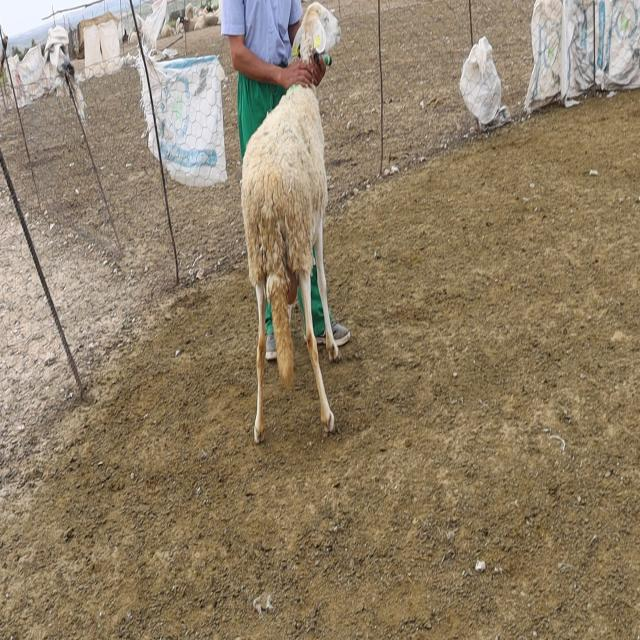Score_2: (241, 85, 338, 443)
